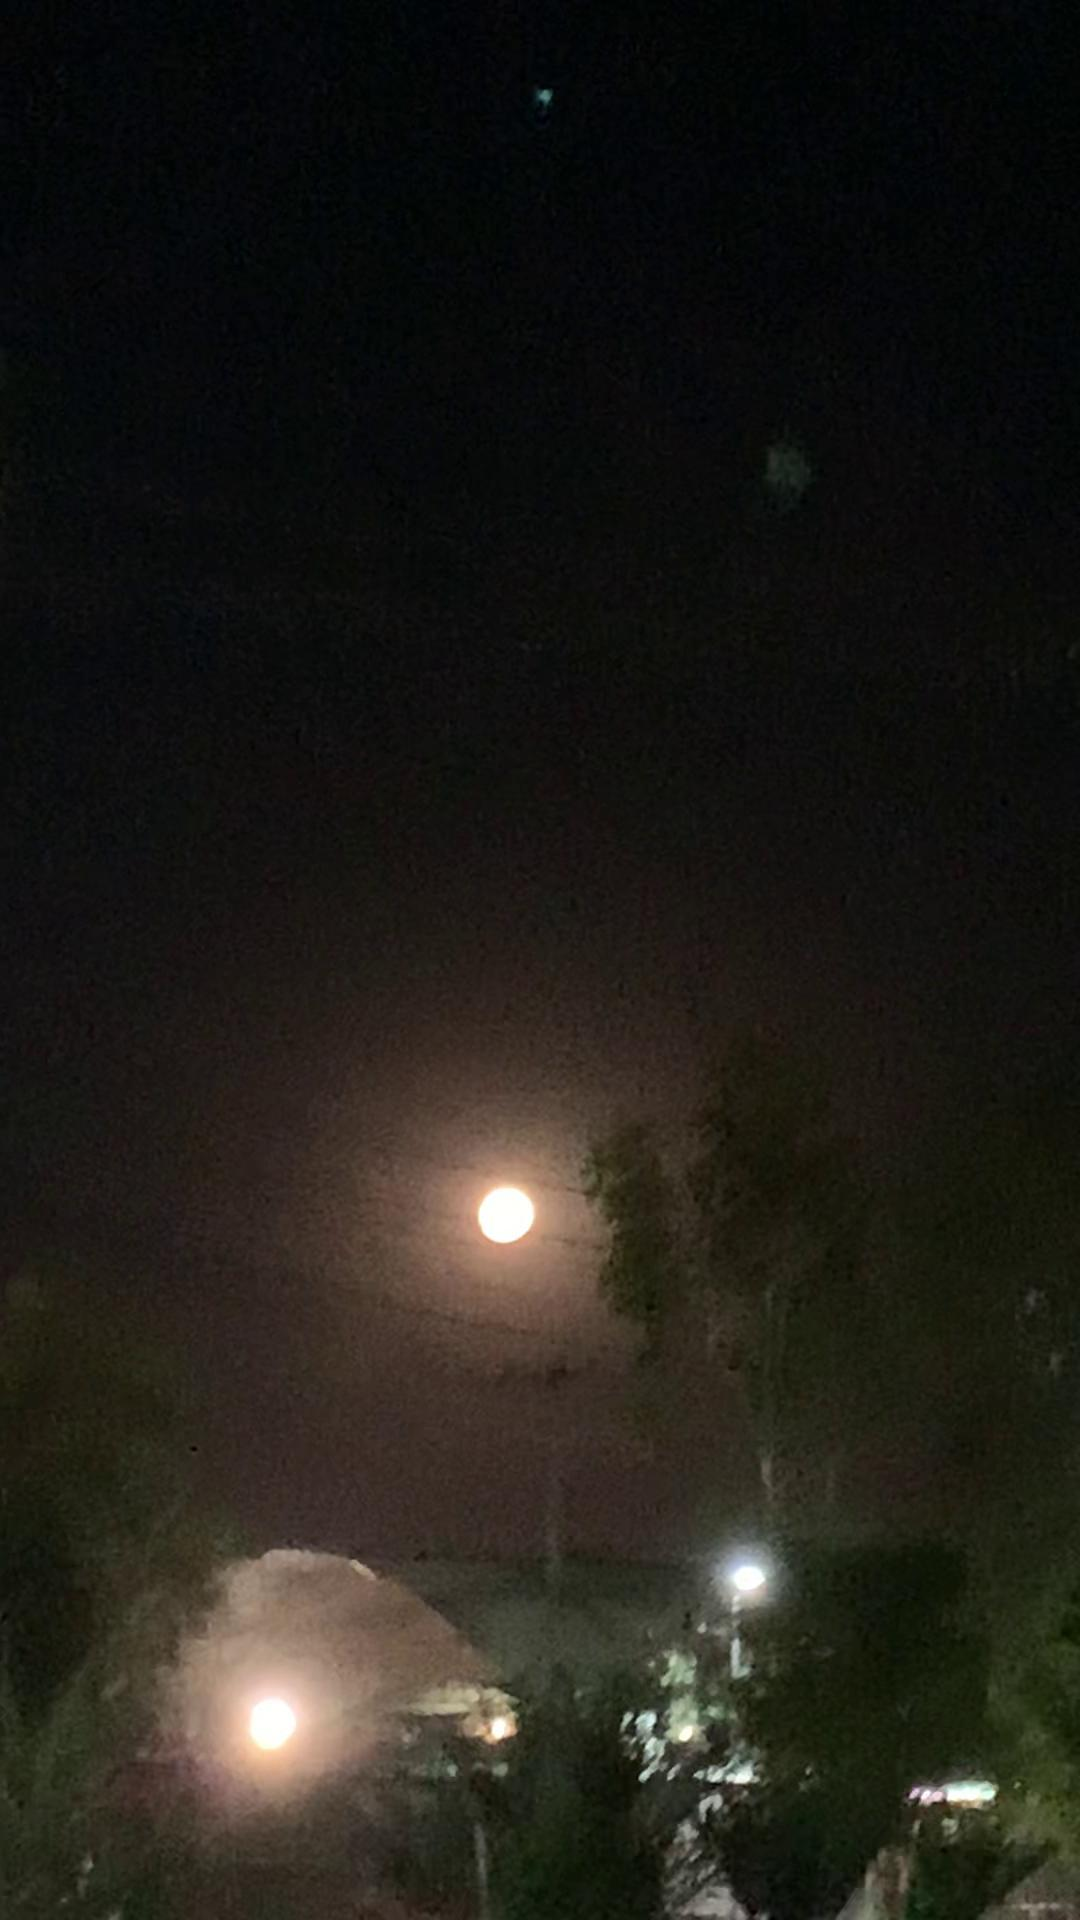moon: (464, 1189, 535, 1262)
